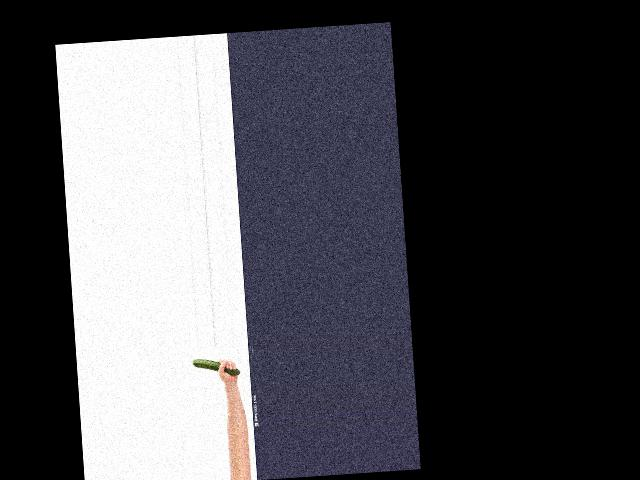cucumber: (192, 356, 240, 377)
